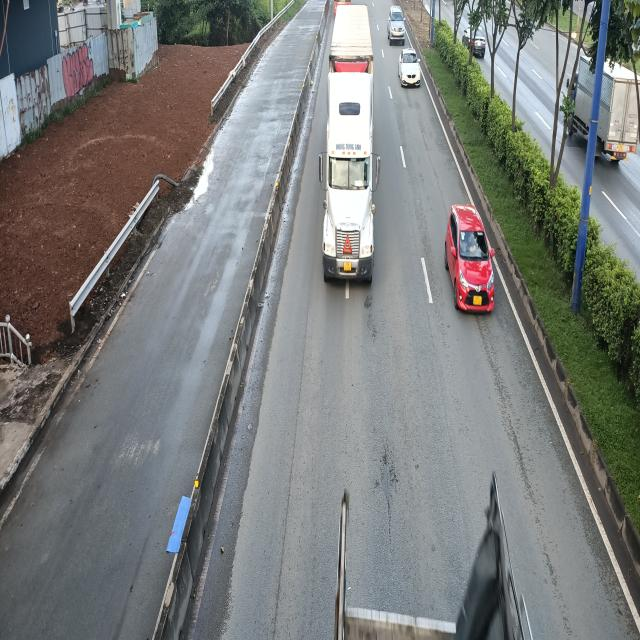car: (447, 202, 496, 312), (400, 48, 422, 87), (386, 5, 405, 44)
container: (316, 6, 375, 289)
